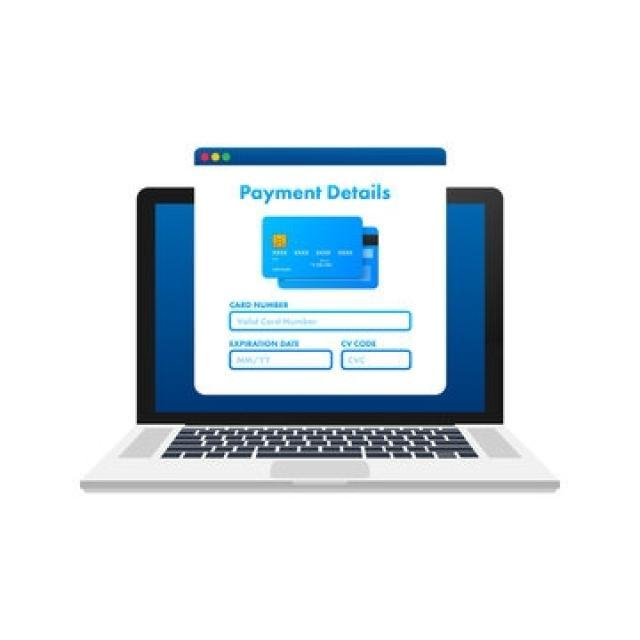payment_card: (258, 215, 364, 280)
